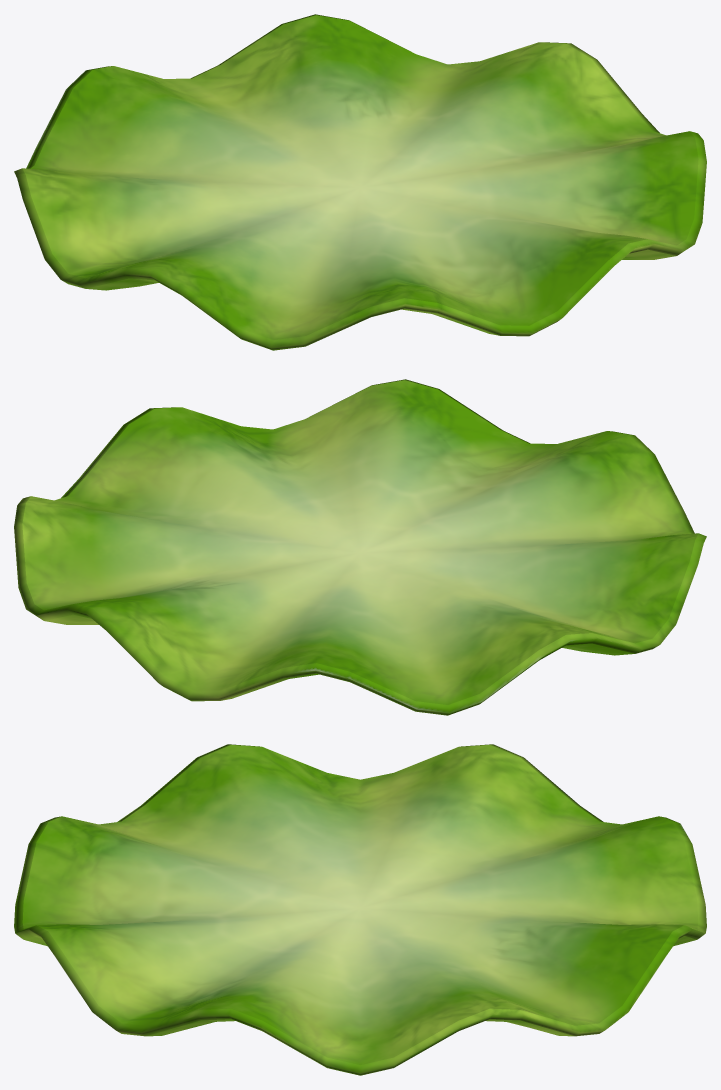
File: Lettuce_Burger.fbx
The picture shows the model from 3 angles, top to bottom: view 1: azimuth 30°, elevation 25°; view 2: azimuth 150°, elevation 25°; view 3: azimuth 270°, elevation 25°; orthographic projection.
Parts seen in each view (by area): view 1: sla; view 2: sla; view 3: sla.
Boxes of the visible parts, left/top/right/bottom form: sla: left=14, top=14, right=706, bottom=350; sla: left=14, top=379, right=706, bottom=715; sla: left=14, top=744, right=706, bottom=1075.
Bounding box in the file's own units: 17.58 × 1.91 × 17.58.
